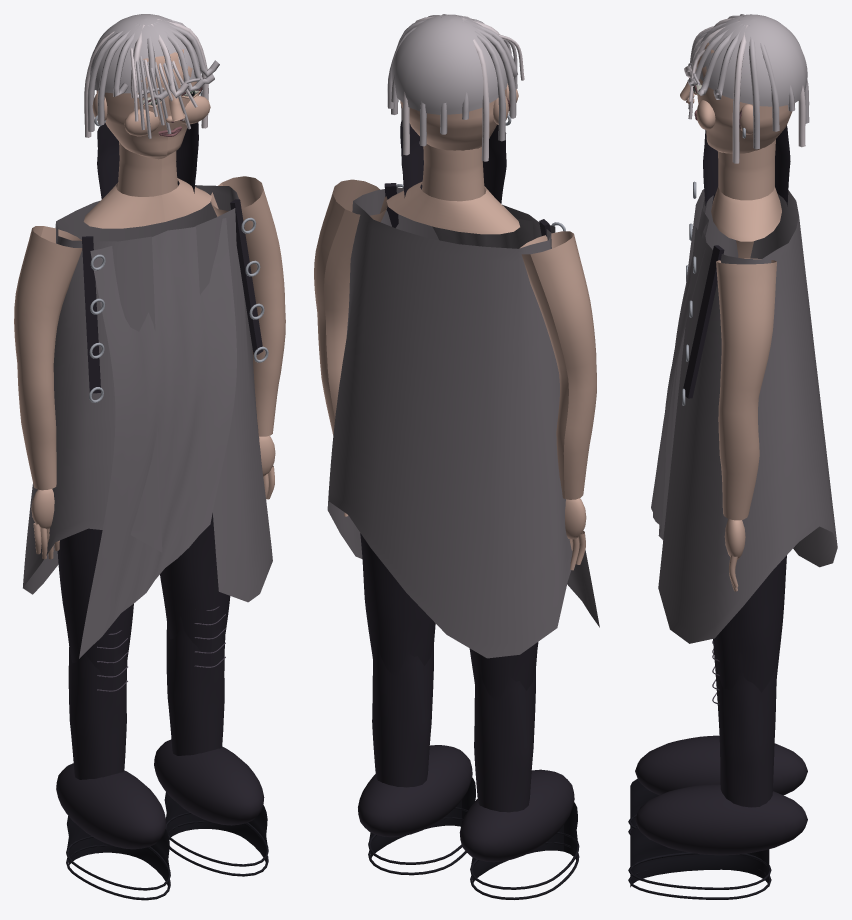
Rendered from look-7-crowd.glb.
The picture shows the model from 3 angles, left to right: view 1: azimuth 30°, elevation 25°; view 2: azimuth 150°, elevation 25°; view 3: azimuth 270°, elevation 25°; orthographic projection. The views are drawn at different scales.
Parts seen in each view (by area): view 1: look-7-crowd, leg-1, leg-0, arm-0, arm-1; view 2: look-7-crowd, leg-1, leg-0, arm-0, arm-1; view 3: look-7-crowd, leg-1, arm-1, leg-0.
Boxes of the visible parts, x1,y1,x2,y2 form: look-7-crowd: (23, 14, 272, 658); leg-1: (154, 513, 268, 876); leg-0: (56, 528, 170, 900); arm-0: (14, 226, 82, 559); arm-1: (211, 176, 285, 499); look-7-crowd: (327, 14, 599, 658); leg-1: (358, 533, 475, 875); leg-0: (459, 642, 579, 899); arm-0: (520, 231, 596, 570); arm-1: (314, 179, 387, 516); look-7-crowd: (651, 14, 837, 643); leg-1: (628, 555, 807, 899); arm-1: (716, 258, 776, 591); leg-0: (628, 649, 807, 834).
Size of the model in its own units: 0.6774 by 2.04 by 0.4597.
